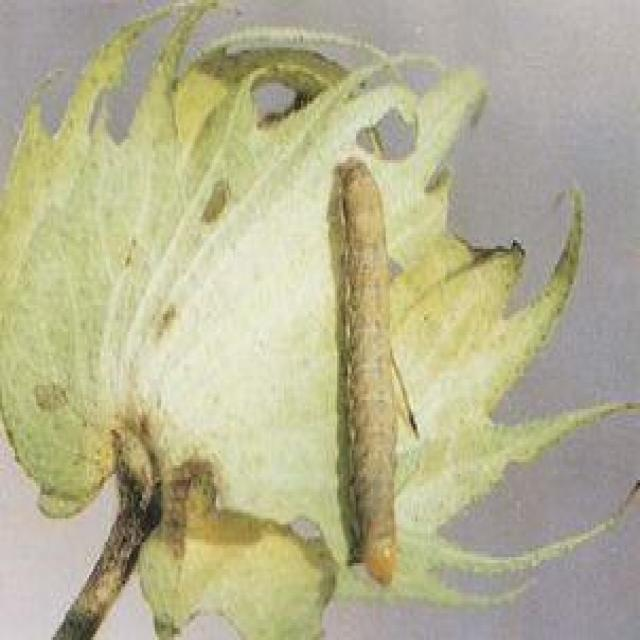BeetArmyWorm-Larva-: (330, 154, 415, 592)
